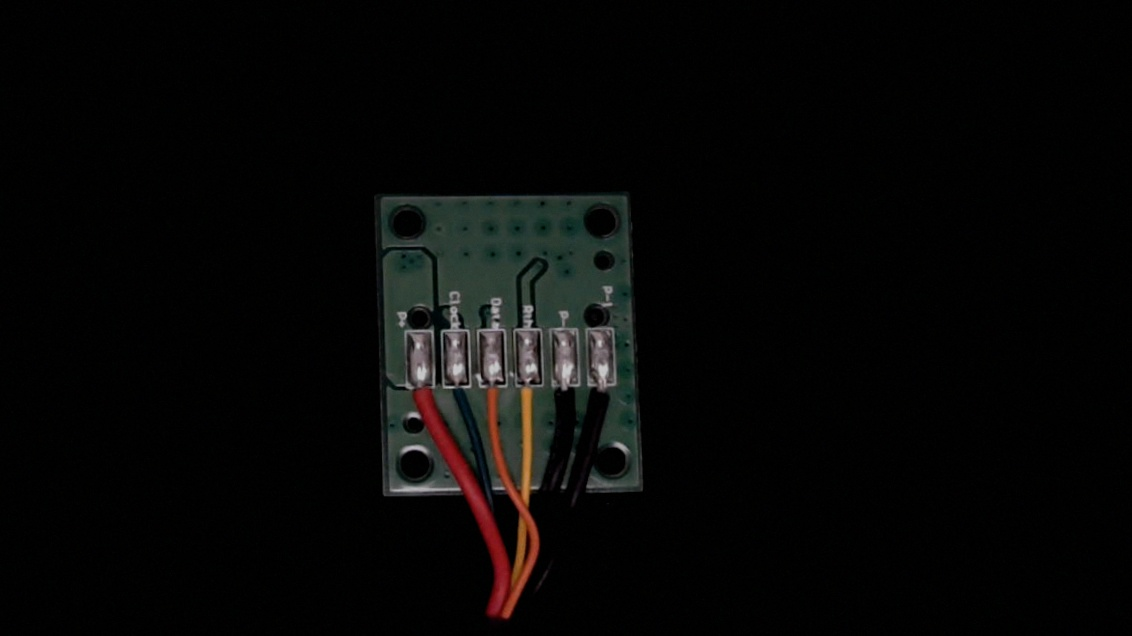Black: (550, 369, 583, 436)
Black1: (588, 370, 620, 432)
Green: (442, 368, 469, 422)
Orange: (478, 372, 509, 437)
Red: (405, 370, 439, 435)
Yellow: (513, 371, 546, 439)
